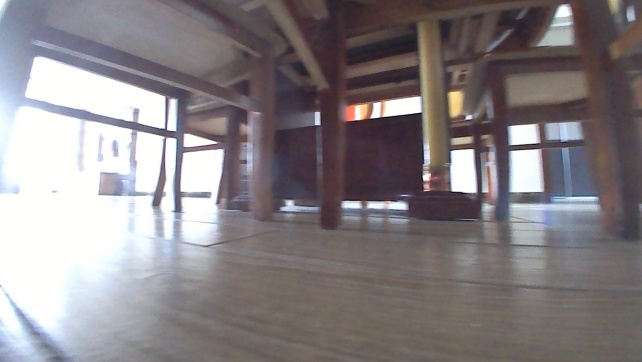dining_table1: (0, 0, 641, 243)
